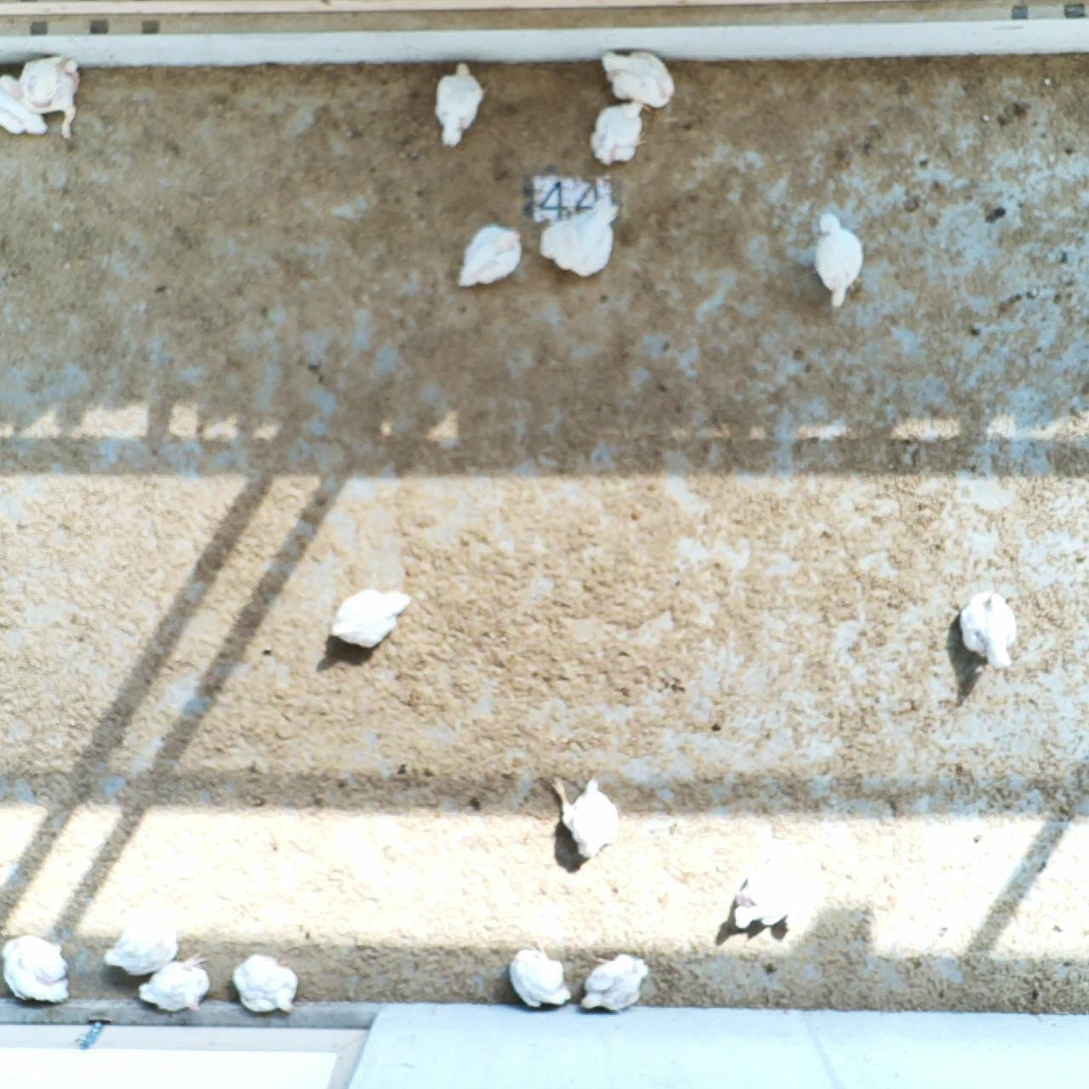chicken: (729, 847, 814, 933), (550, 762, 624, 860), (538, 196, 620, 280), (18, 52, 83, 144), (328, 584, 412, 653), (97, 911, 185, 975), (1, 933, 73, 1007), (955, 590, 1020, 671), (132, 951, 212, 1015), (574, 951, 650, 1016), (599, 48, 676, 111), (814, 214, 865, 309), (431, 62, 486, 148), (230, 954, 305, 1015), (588, 96, 646, 173), (457, 224, 522, 292), (510, 944, 574, 1009), (1, 74, 53, 138)
